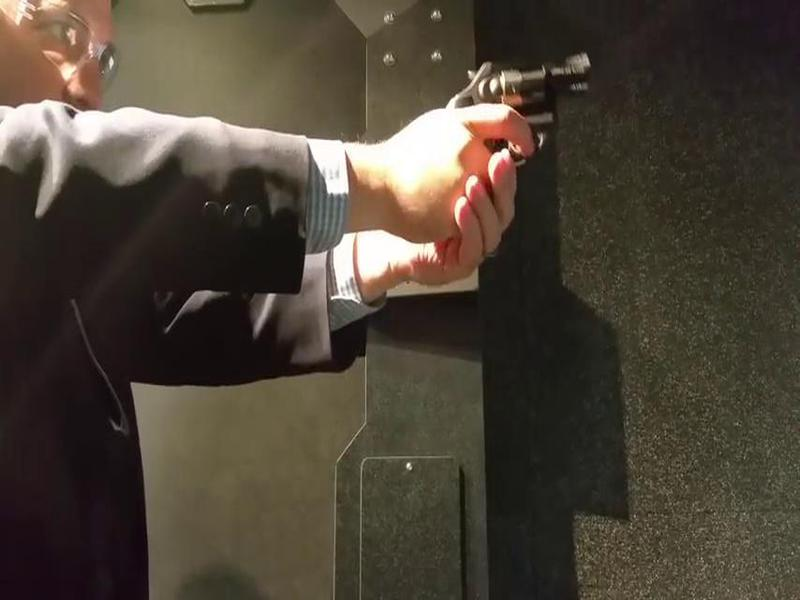Revolver: (437, 56, 604, 171)
